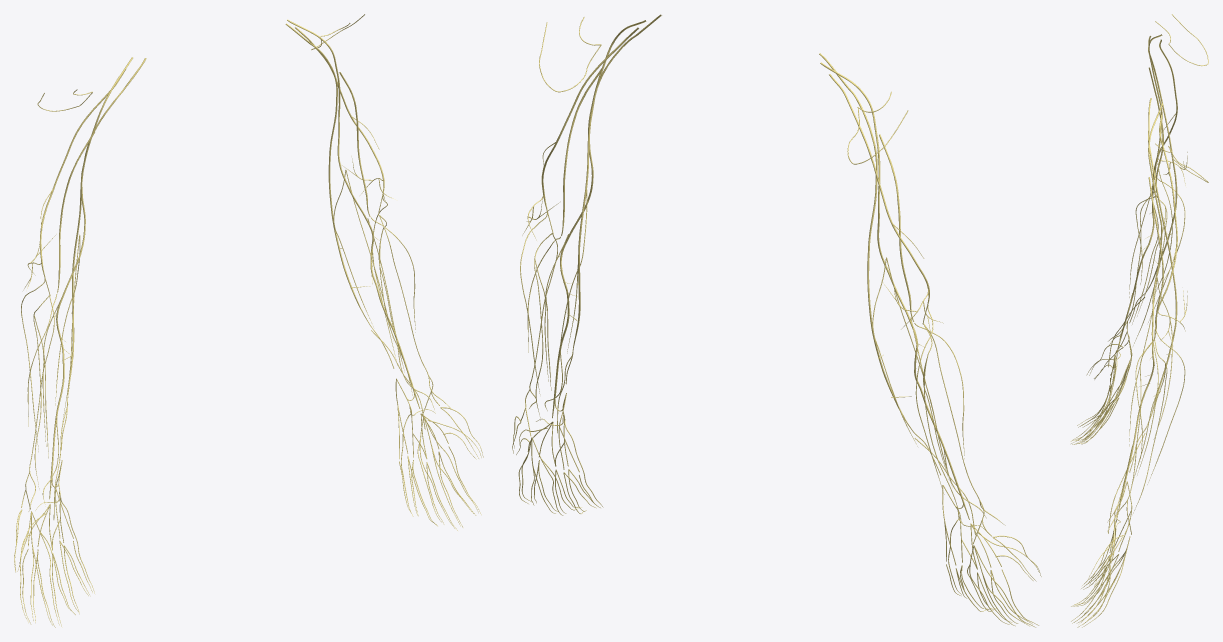
File: nerfs-membre-sup.lo.glb
The picture shows the model from 3 angles, left to right: view 1: azimuth 30°, elevation 25°; view 2: azimuth 150°, elevation 25°; view 3: azimuth 270°, elevation 25°; orthographic projection. The views are drawn at different scales.
Parts seen in each view (by area): view 1: ZA-median-nerve-d, ZA-median-nerve-g, ZA-dorsal-digital-branches-of-radial-nerve-g, ZA-ulnar-nerve-g, ZA-dorsal-digital-branches-of-radial-nerve-d, ZA-ulnar-nerve-d; view 2: ZA-median-nerve-d, ZA-ulnar-nerve-d, ZA-median-nerve-g, ZA-ulnar-nerve-g, ZA-dorsal-digital-branches-of-radial-nerve-d; view 3: ZA-median-nerve-g, ZA-ulnar-nerve-g, ZA-dorsal-digital-branches-of-radial-nerve-g, ZA-ulnar-nerve-d, ZA-median-nerve-d, ZA-proper-palmar-digital-branches-of-median-nerve-g, ZA-radial-nerve-g, ZA-dorsal-digital-branches-of-radial-nerve-d, ZA-superficial-branch-of-radial-nerve-g, ZA-musculocutaneous-nerve-g, ZA-proper-palmar-digital-branches-of-median-nerve-d, ZA-radial-nerve-d (+5 smaller).
Boxes of the visible parts, x1=… form: ZA-median-nerve-d: x1=49, y1=57, x2=132, y2=499; ZA-median-nerve-g: x1=287, y1=19, x2=420, y2=408; ZA-dorsal-digital-branches-of-radial-nerve-g: x1=417, y1=407, x2=483, y2=528; ZA-ulnar-nerve-g: x1=285, y1=23, x2=394, y2=368; ZA-dorsal-digital-branches-of-radial-nerve-d: x1=14, y1=509, x2=70, y2=625; ZA-ulnar-nerve-d: x1=61, y1=58, x2=146, y2=449; ZA-median-nerve-d: x1=820, y1=62, x2=969, y2=519; ZA-ulnar-nerve-d: x1=819, y1=53, x2=940, y2=475; ZA-median-nerve-g: x1=552, y1=20, x2=646, y2=418; ZA-ulnar-nerve-g: x1=565, y1=14, x2=661, y2=384; ZA-dorsal-digital-branches-of-radial-nerve-d: x1=967, y1=535, x2=1041, y2=627; ZA-median-nerve-g: x1=1117, y1=103, x2=1162, y2=517; ZA-ulnar-nerve-g: x1=1129, y1=98, x2=1177, y2=472; ZA-dorsal-digital-branches-of-radial-nerve-g: x1=1075, y1=535, x2=1130, y2=627; ZA-ulnar-nerve-d: x1=1129, y1=36, x2=1177, y2=323; ZA-median-nerve-d: x1=1117, y1=34, x2=1162, y2=349; ZA-proper-palmar-digital-branches-of-median-nerve-g: x1=1071, y1=531, x2=1114, y2=627; ZA-radial-nerve-g: x1=1154, y1=115, x2=1177, y2=339; ZA-dorsal-digital-branches-of-radial-nerve-d: x1=1075, y1=344, x2=1130, y2=443; ZA-superficial-branch-of-radial-nerve-g: x1=1107, y1=339, x2=1154, y2=534; ZA-musculocutaneous-nerve-g: x1=1148, y1=177, x2=1163, y2=335; ZA-proper-palmar-digital-branches-of-median-nerve-d: x1=1070, y1=359, x2=1113, y2=443; ZA-radial-nerve-d: x1=1154, y1=39, x2=1177, y2=188.
Bounding box in the file's own units: 0.645 × 0.6681 × 0.1799.
